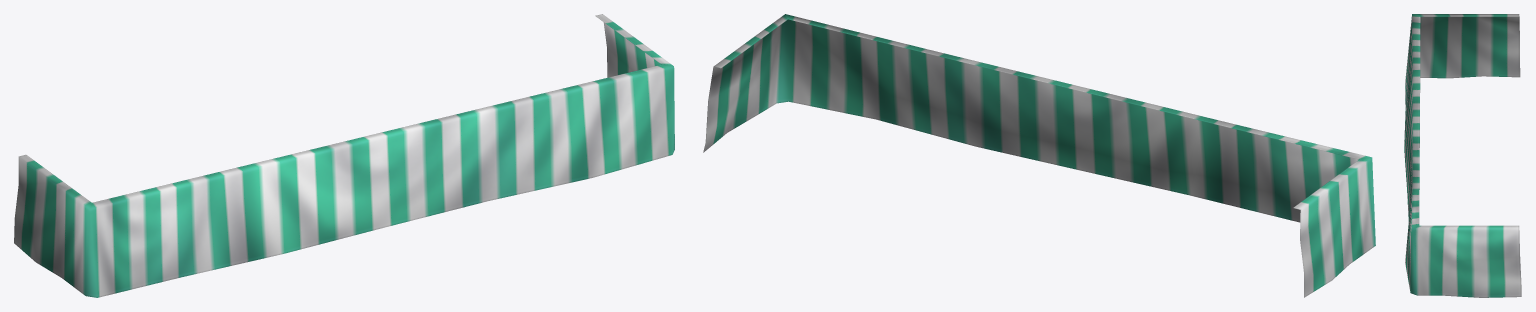
Rendered from jsf_BlindfoldCloth_4P_s02_01.fbx.
3 views of the same model, side by side, from view 1: azimuth 30°, elevation 25°; view 2: azimuth 150°, elevation 25°; view 3: azimuth 270°, elevation 25° (orthographic). The views are drawn at different scales.
Parts seen in each view (by area): view 1: jsf_BlindfoldCloth_4P_s02_01; view 2: jsf_BlindfoldCloth_4P_s02_01; view 3: jsf_BlindfoldCloth_4P_s02_01.
Boxes of the visible parts, bbox=[...] form: jsf_BlindfoldCloth_4P_s02_01: bbox=[14, 14, 674, 297]; jsf_BlindfoldCloth_4P_s02_01: bbox=[703, 14, 1375, 297]; jsf_BlindfoldCloth_4P_s02_01: bbox=[1404, 14, 1521, 297].
Bounding box in the file's own units: 217 × 30.11 × 48.69.
